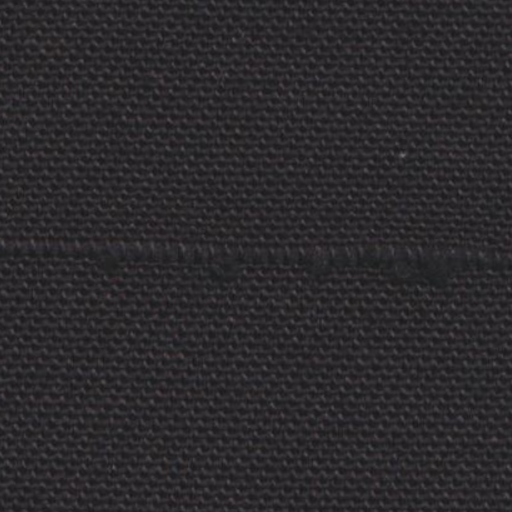DaiSha: (16, 222, 500, 280)
